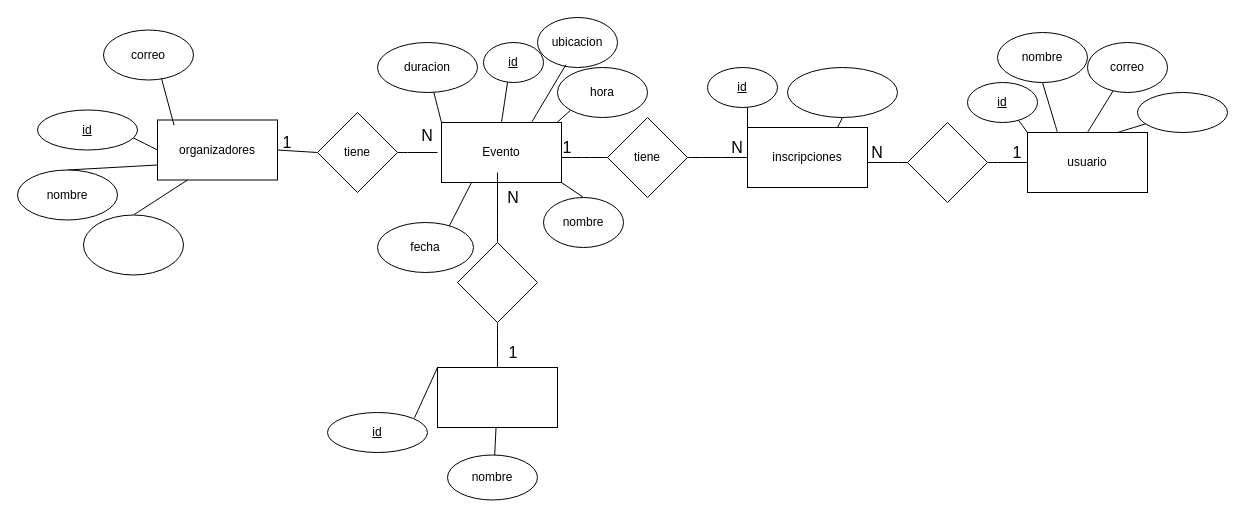
The diagram is 1245 pixels wide and 518 high, and some of its shapes have lost their labels. Each missing label, with the box of its shape:
categoria: (436, 366, 558, 428)
contraseña: (1136, 92, 1228, 132)
f_inscripcion: (786, 66, 898, 118)
pertenece: (456, 242, 538, 322)
realiza: (906, 122, 988, 202)
telefono: (82, 214, 184, 275)
